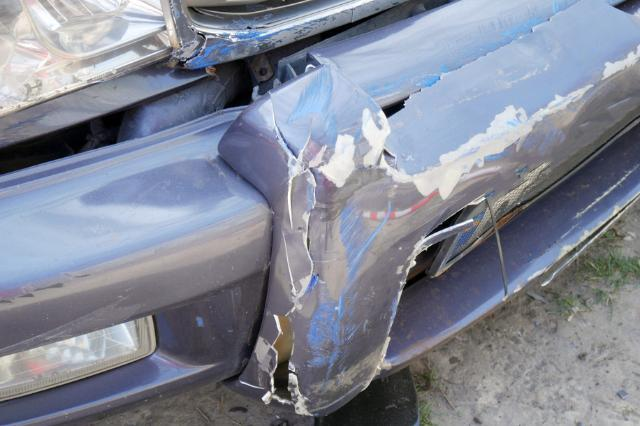Bumper: (215, 52, 640, 426)
